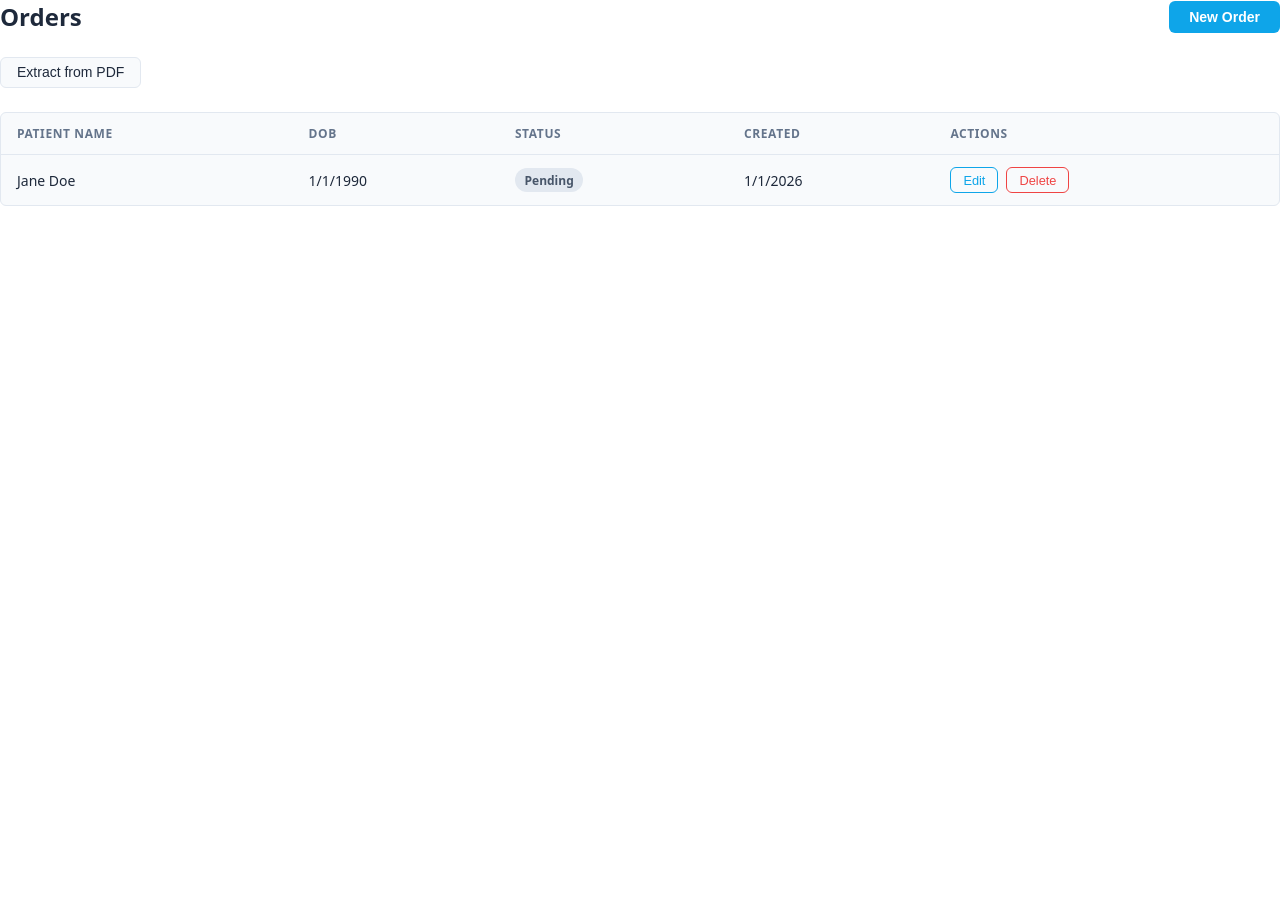
Test case: OrdersPage › opens edit form when edit button clicked
Expected: the text "Jane Doe" is shown, [1,154,292,205]
What coordinates should you click on to do the following:
click the button with aria-label "Edit order order-1"
I would click on:
 (974, 180)
Its box is [950,167,998,193].
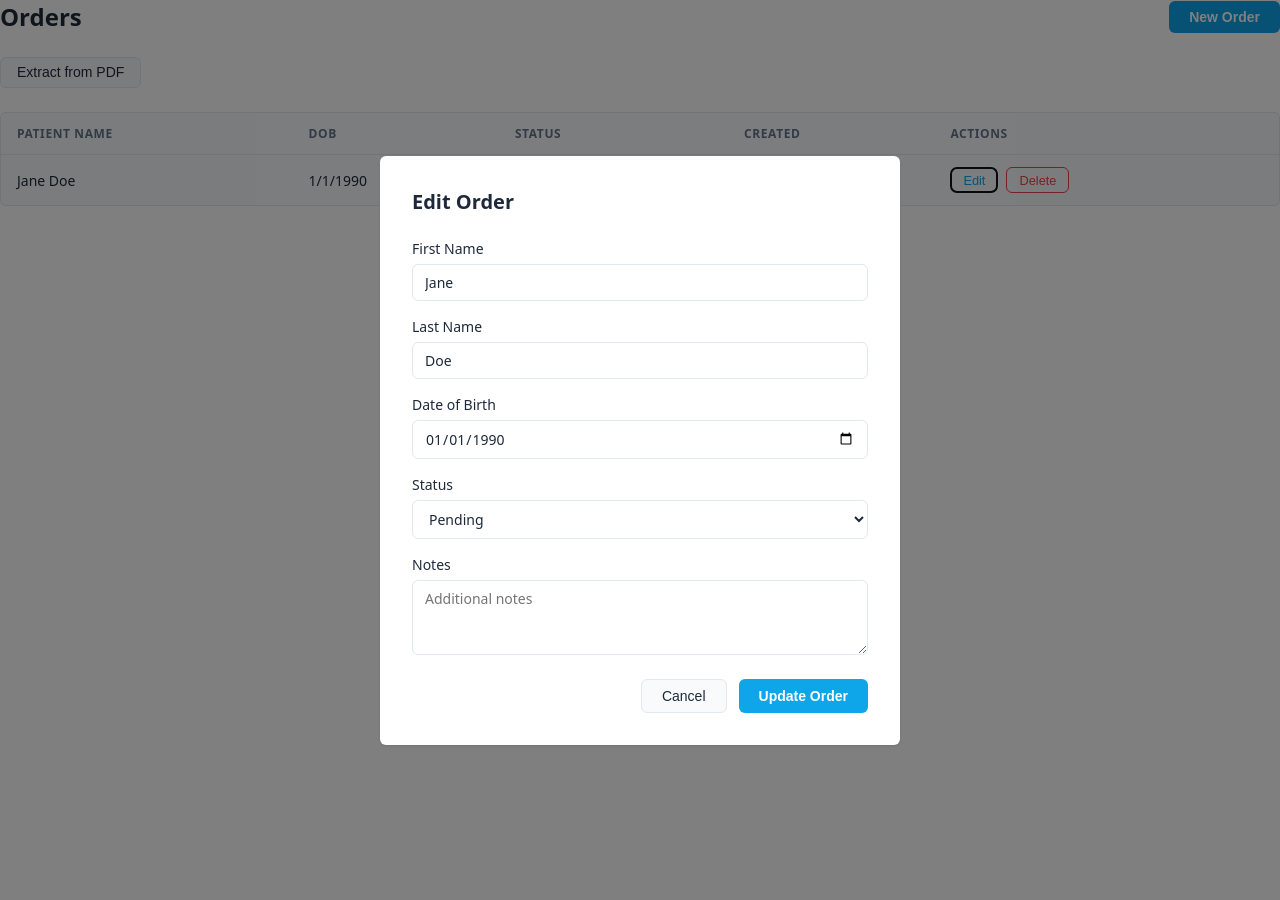
Now the form named "Order form" is shown, box [412,188,868,712]
